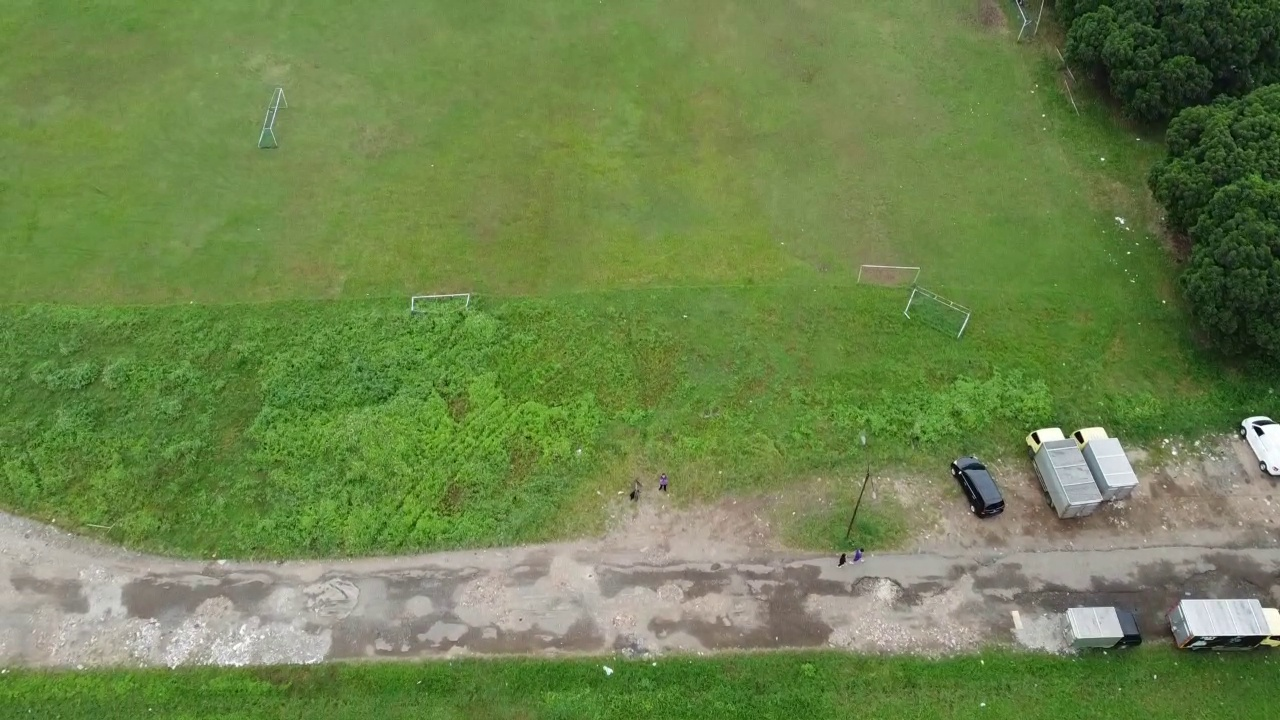mobil: (941, 447, 1011, 522), (1230, 408, 1280, 480)
